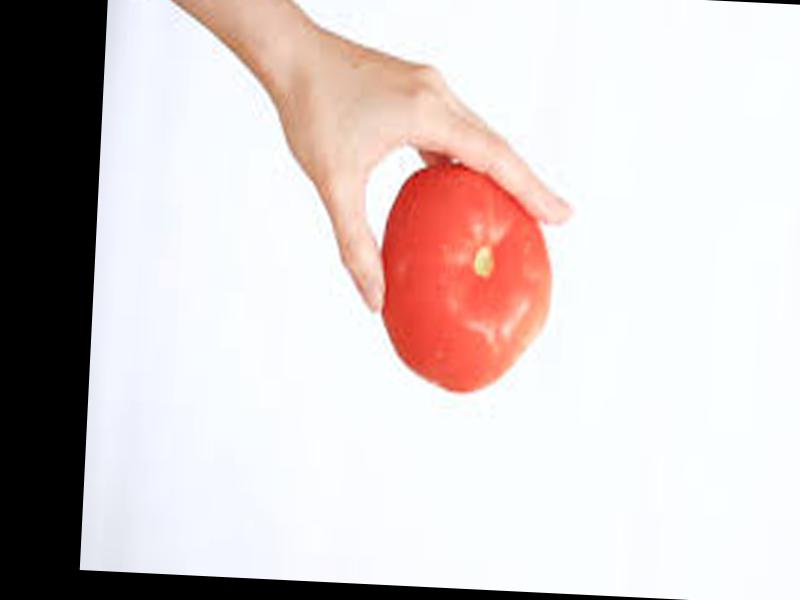Tomato: (375, 166, 557, 395)
